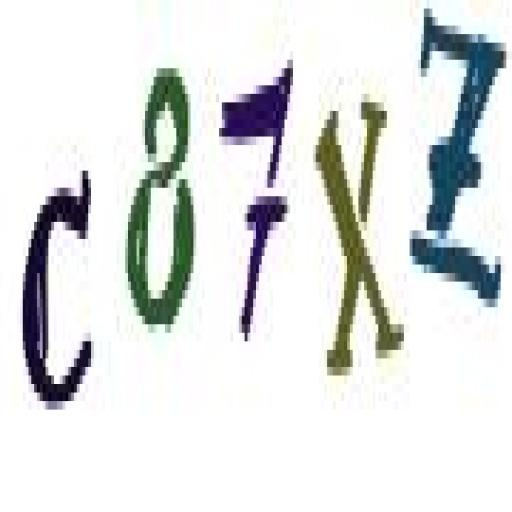7: (216, 60, 300, 362)
8: (121, 46, 202, 351)
X: (315, 70, 412, 395)
Z: (411, 0, 512, 325)
c: (16, 149, 102, 424)
